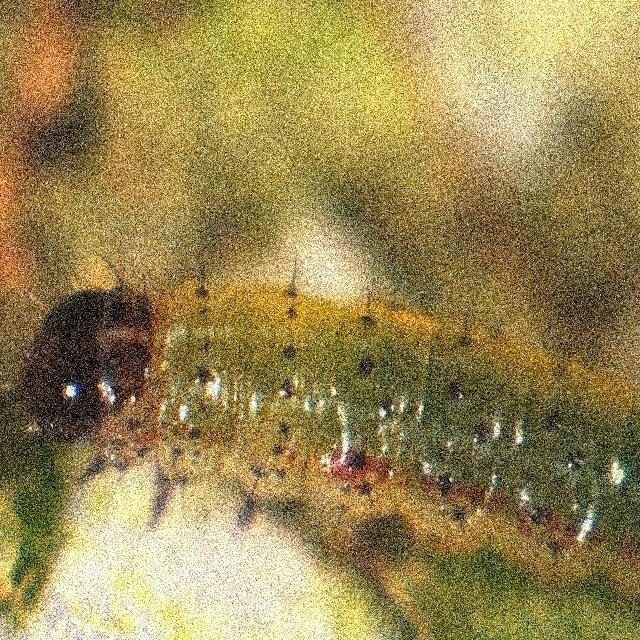gusano_cogollero: (0, 259, 640, 590)
